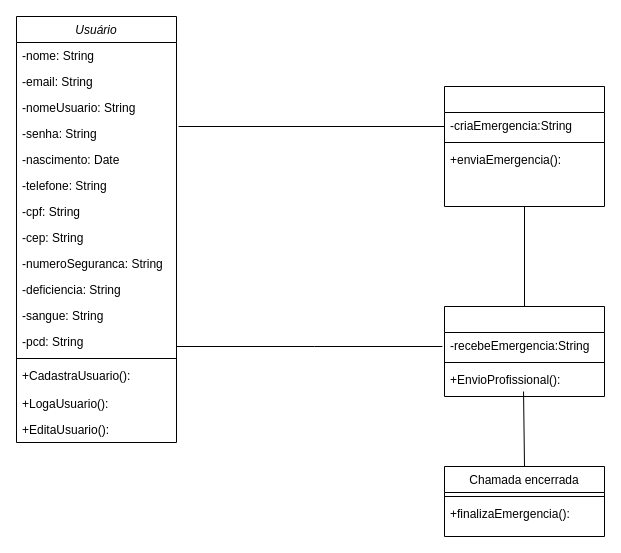
Some shapes in this 621 by 553 pixel diagram are drawn without their labels. The box of each missing label's shape, as (x1, y1, x2, y2) in pixels:
Atendimento a emergencia: (444, 306, 604, 396)
Criar Emeregencia: (444, 86, 604, 206)
